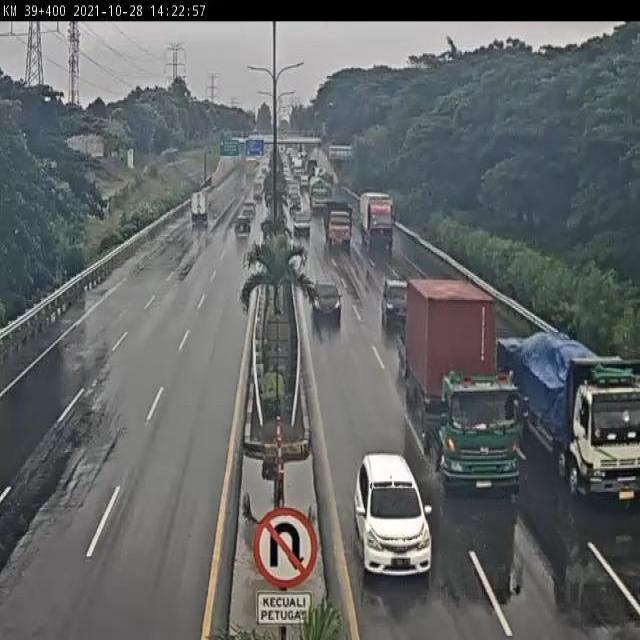truck-l-: (359, 192, 395, 244)
truck-m-: (322, 196, 355, 251)
truck-xl-: (403, 274, 523, 490), (497, 335, 640, 501)
